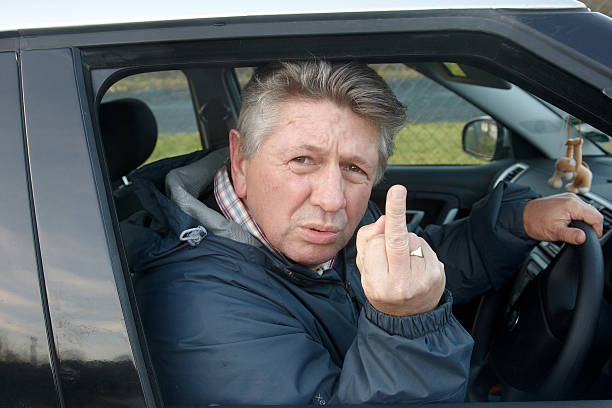insulting_gesture: (354, 183, 448, 317)
